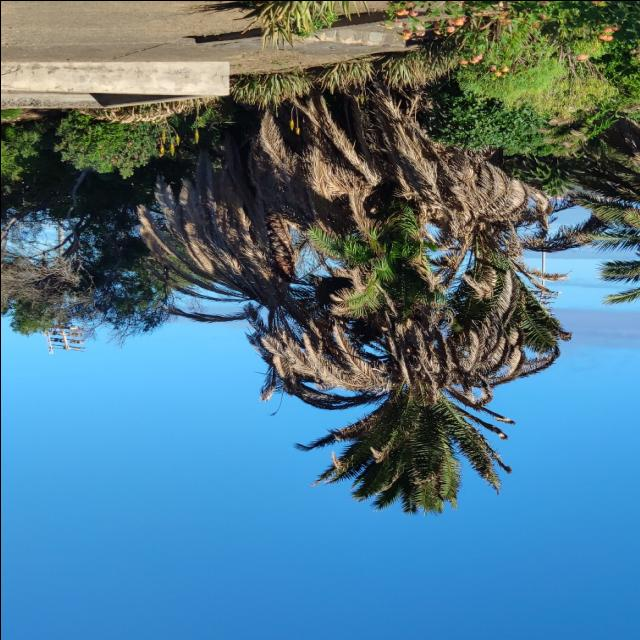Palm-Trees: (256, 236, 520, 516)
